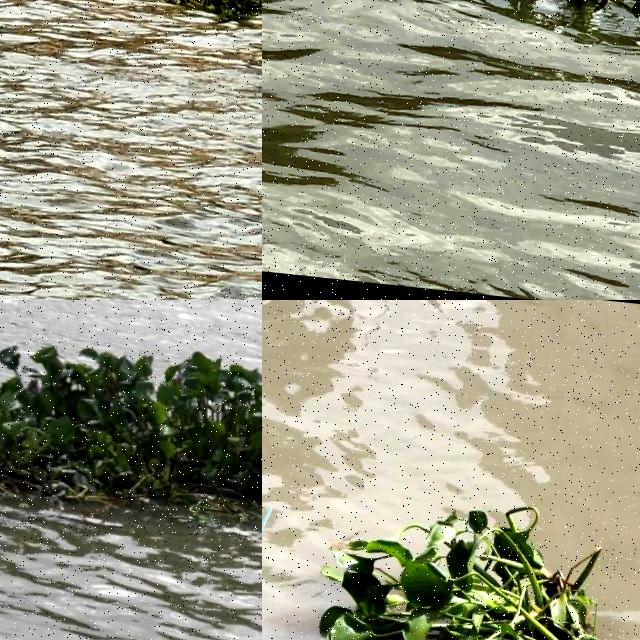water-hyacinth: (1, 309, 263, 570), (295, 476, 626, 640)
